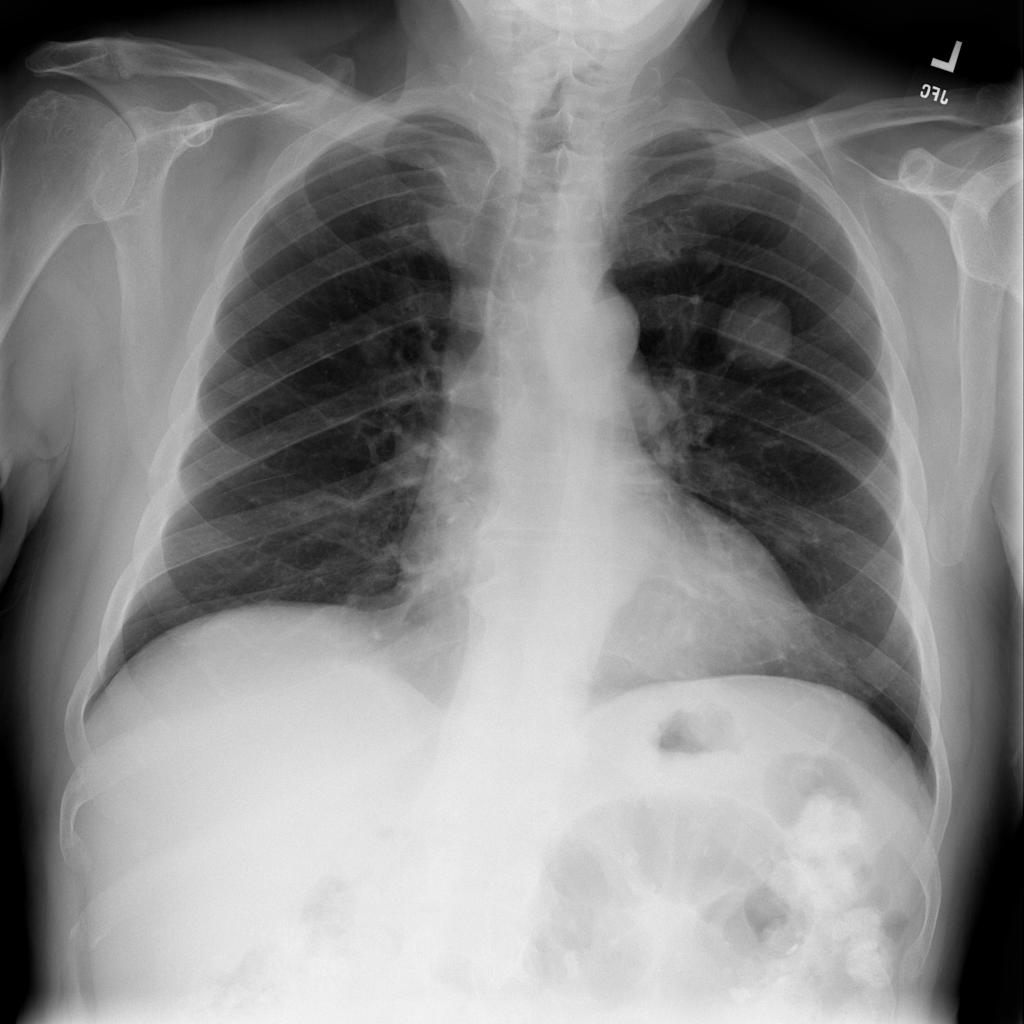nodule: (703, 280, 811, 387), (641, 596, 721, 667), (754, 505, 830, 574)
